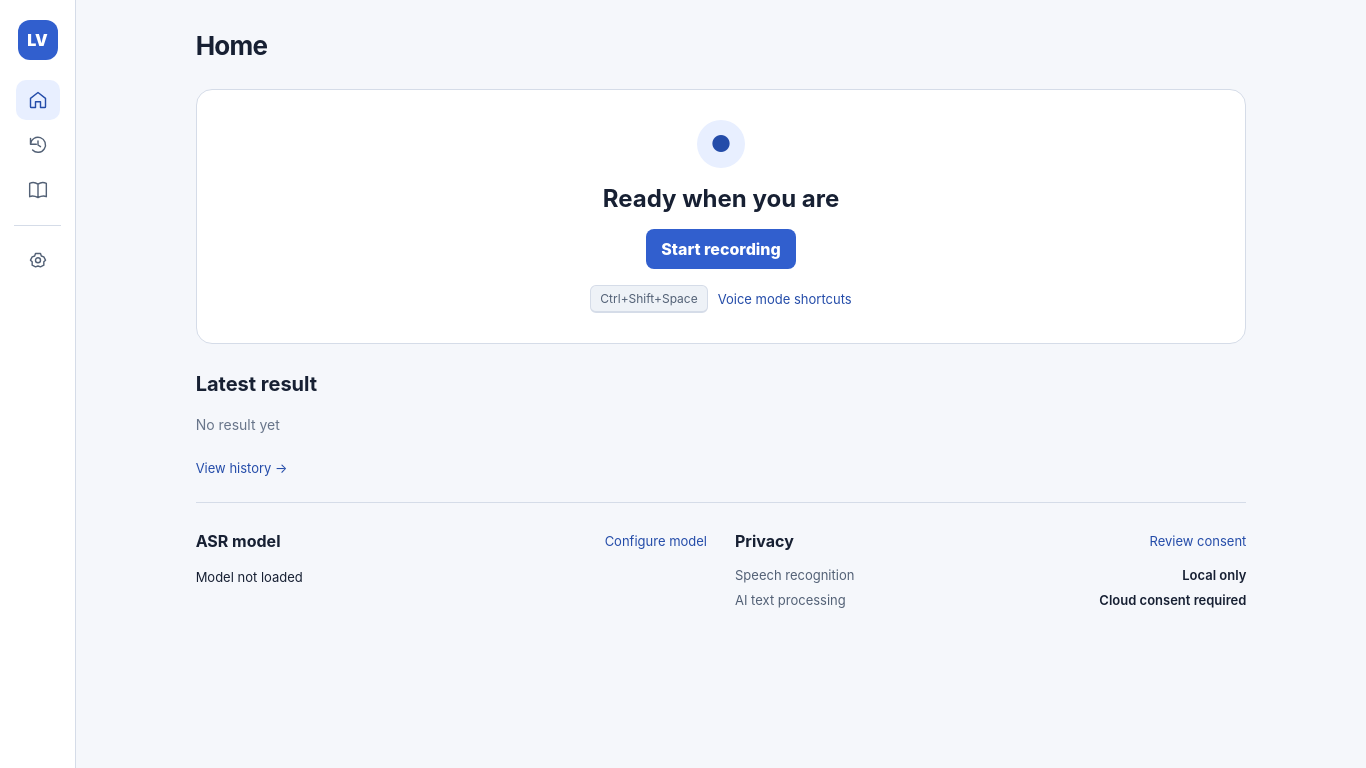
Test: Settings shows the inactive shortcut names when native registration failed
Click the button named "Settings" at (38, 261), box x1=16 y1=241 x2=60 y2=281
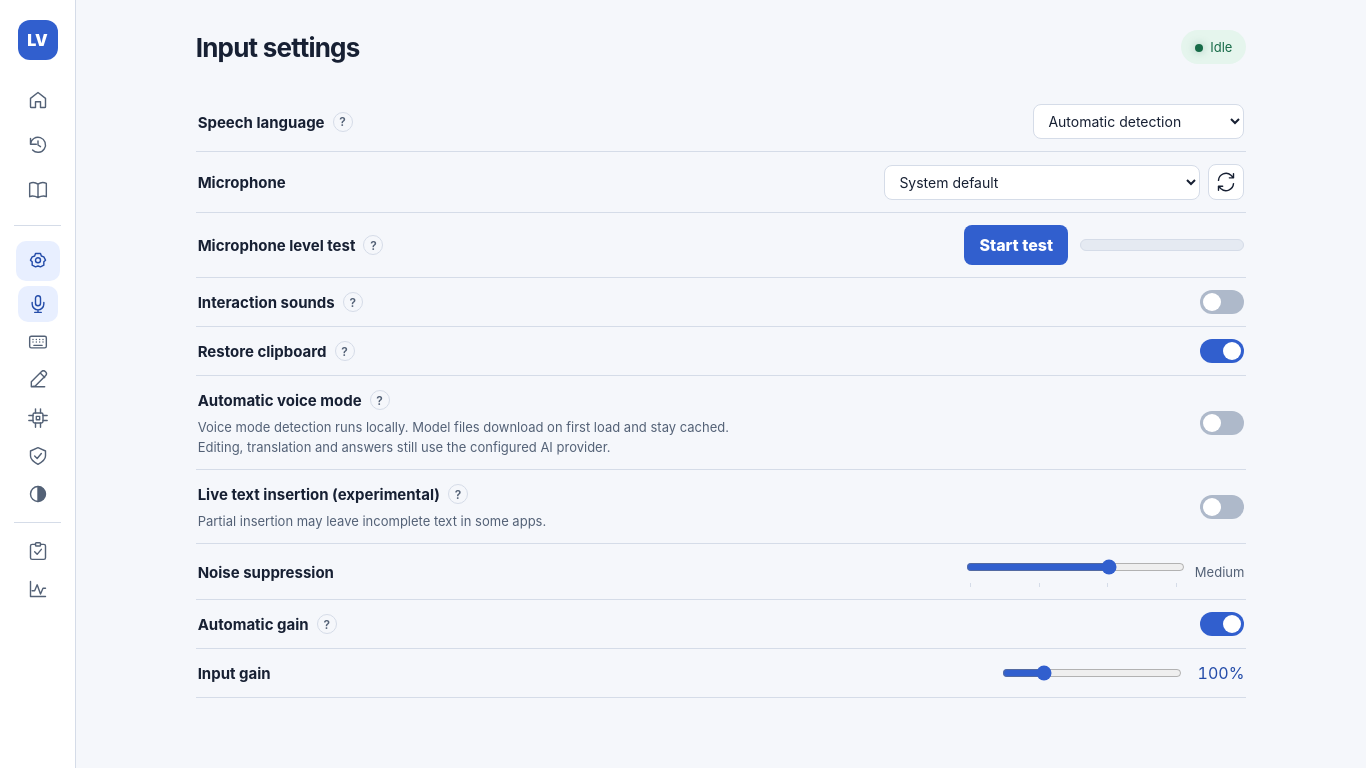
Click the button named "Writing and translation" at (38, 380), box x1=18 y1=362 x2=58 y2=398
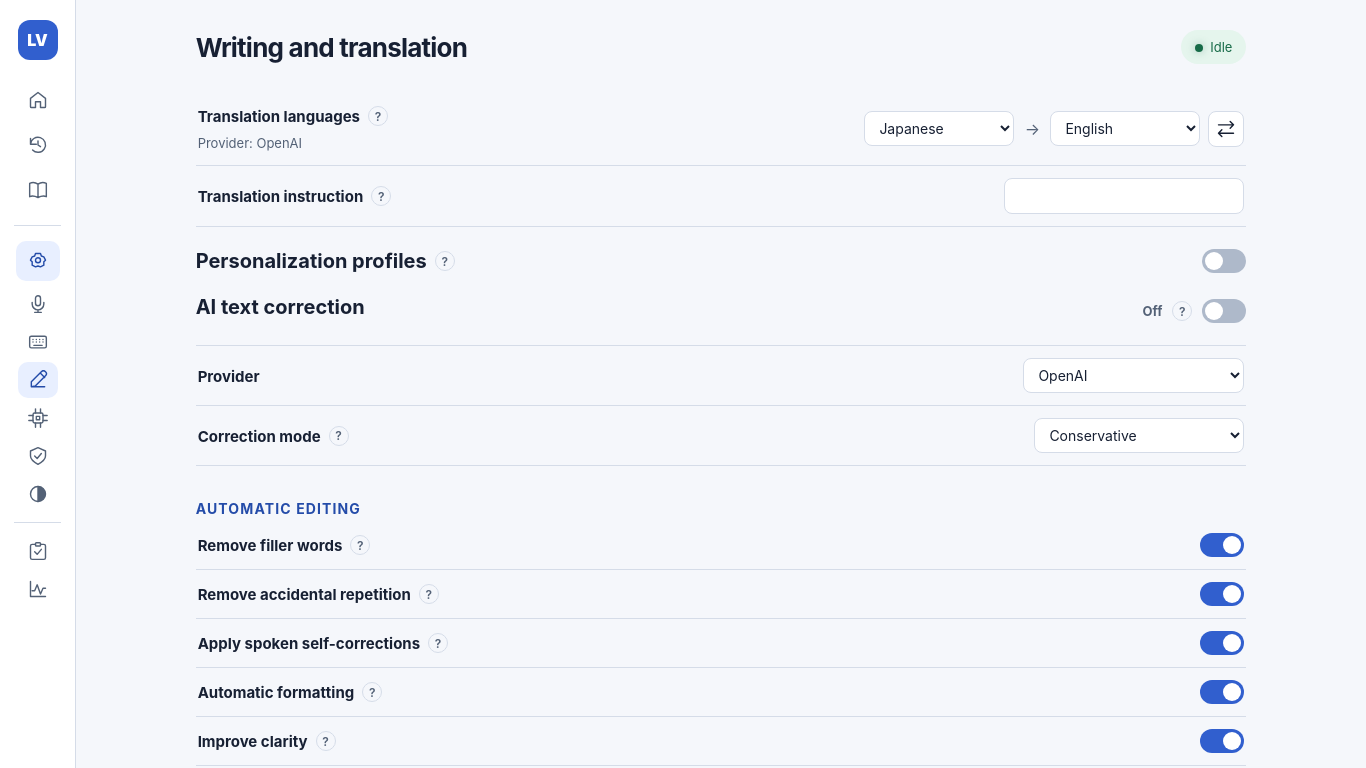
Click the button named "Shortcuts" at (38, 342), box x1=18 y1=324 x2=58 y2=360
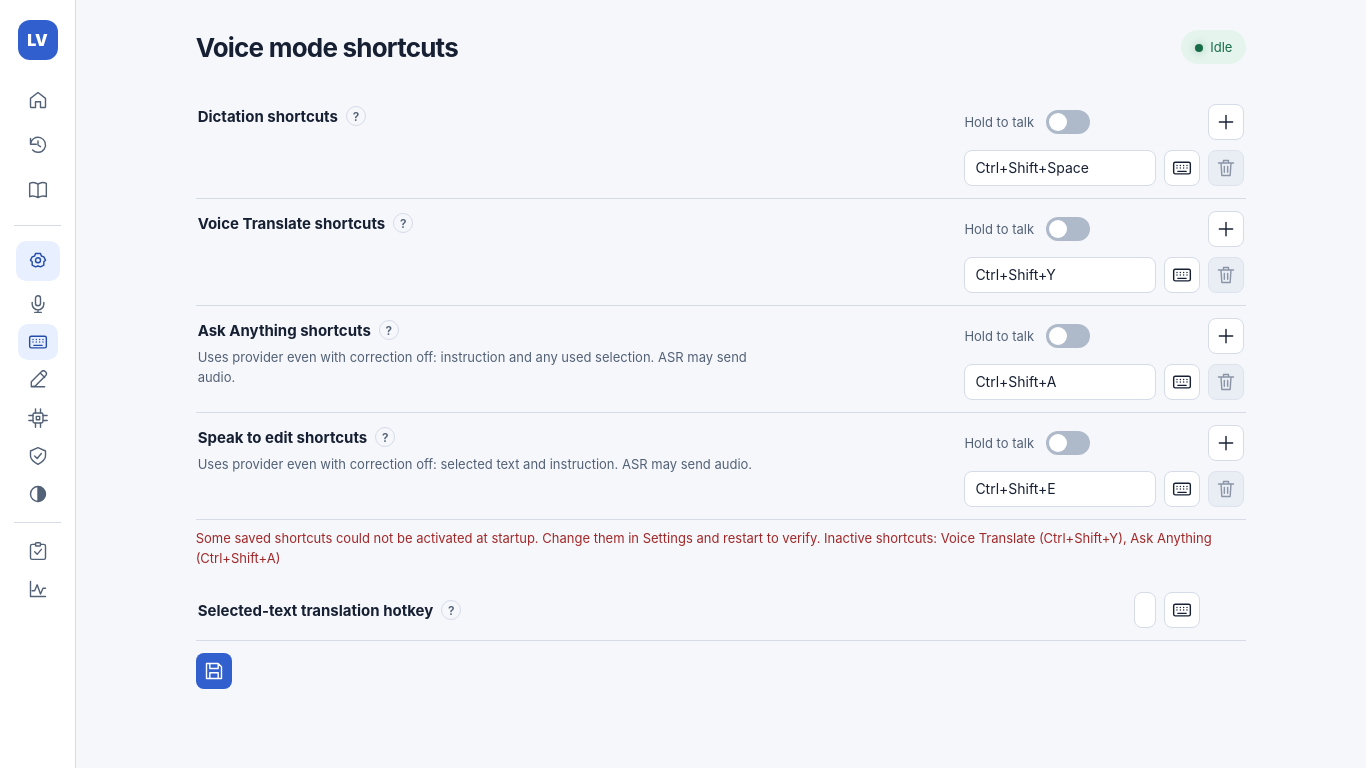
Now the message shows "Inactive shortcuts: Voice Translate (Ctrl+Shift+Y), Ask Anything (Ctrl+Shift+A)", box x1=196 y1=528 x2=1246 y2=568
Now the message shows "Some saved shortcuts could not be activated at startup.", box x1=196 y1=530 x2=820 y2=546
